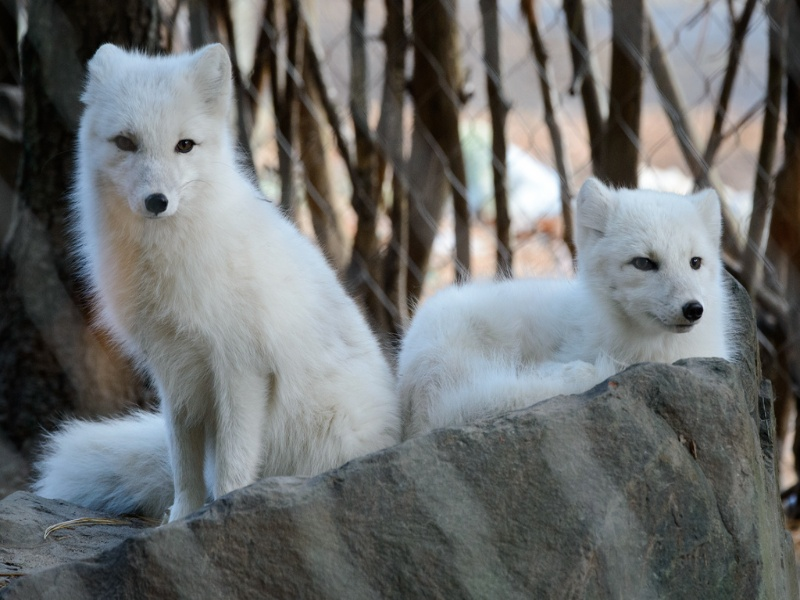fox: (35, 39, 403, 528), (395, 171, 737, 448)
